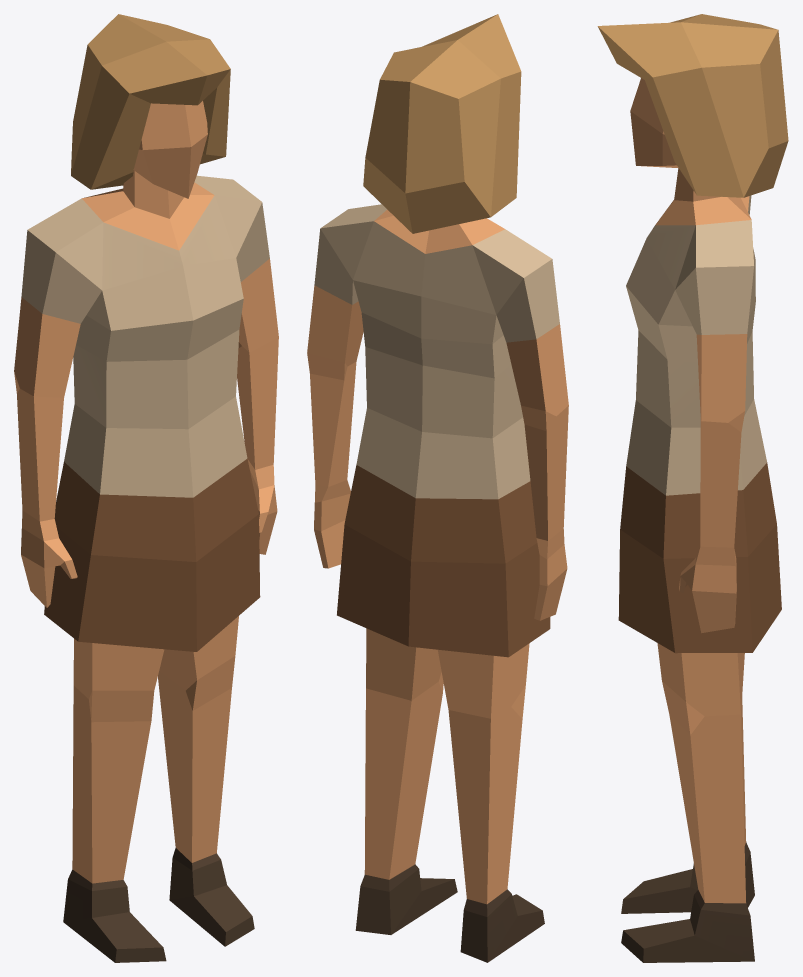
Rendered from people_woman-casual.fbx.
3 views of the same model, side by side, from view 1: azimuth 30°, elevation 25°; view 2: azimuth 150°, elevation 25°; view 3: azimuth 270°, elevation 25° (orthographic). The views are drawn at different scales.
Parts seen in each view (by area): view 1: people_woman_casual; view 2: people_woman_casual; view 3: people_woman_casual.
Part boxes in pixels (x1=…): people_woman_casual: x1=14, y1=14, x2=278, y2=962; people_woman_casual: x1=307, y1=14, x2=568, y2=962; people_woman_casual: x1=597, y1=14, x2=788, y2=962.
Size of the model in its own units: 57.75 by 200 by 38.13.
